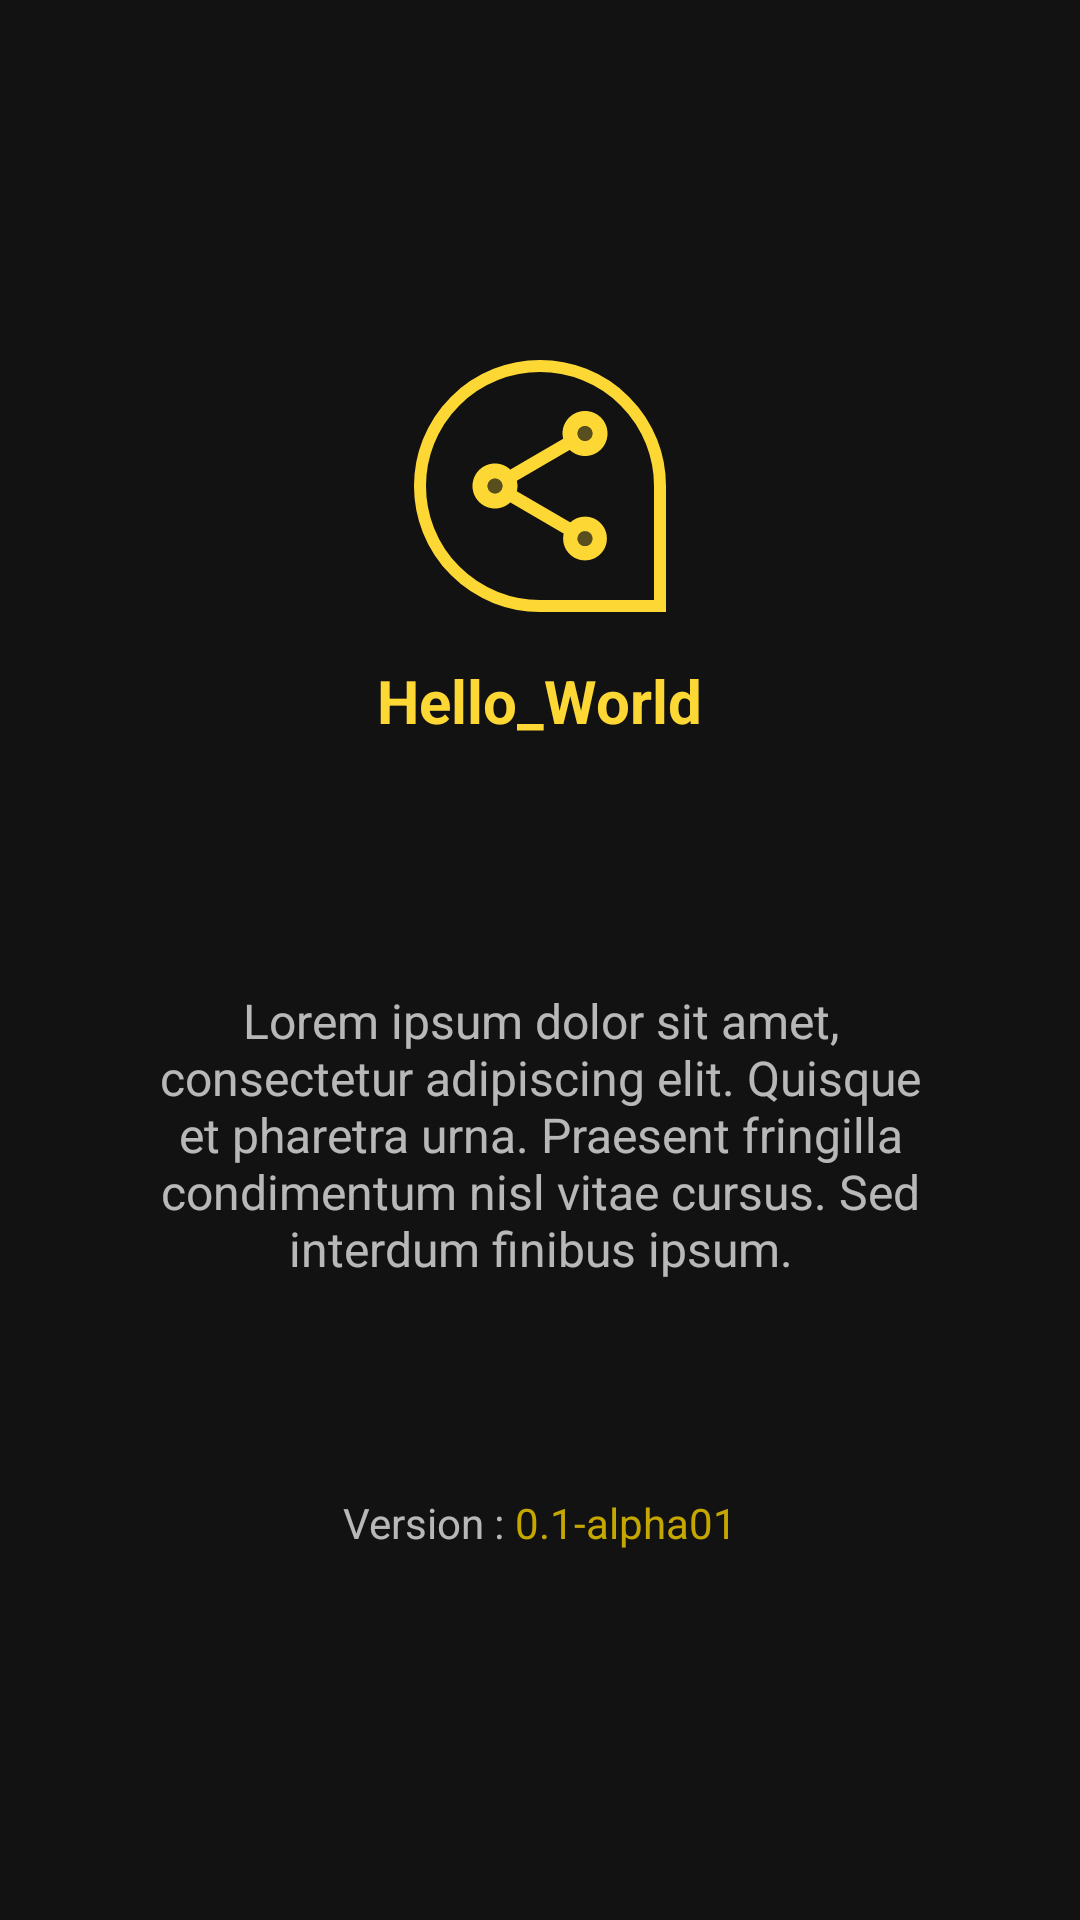

Icon bounding boxes for this 1080px×1920px phone screenshot, format (x1, y1, x2, y2):
share: (414, 360, 666, 612)
